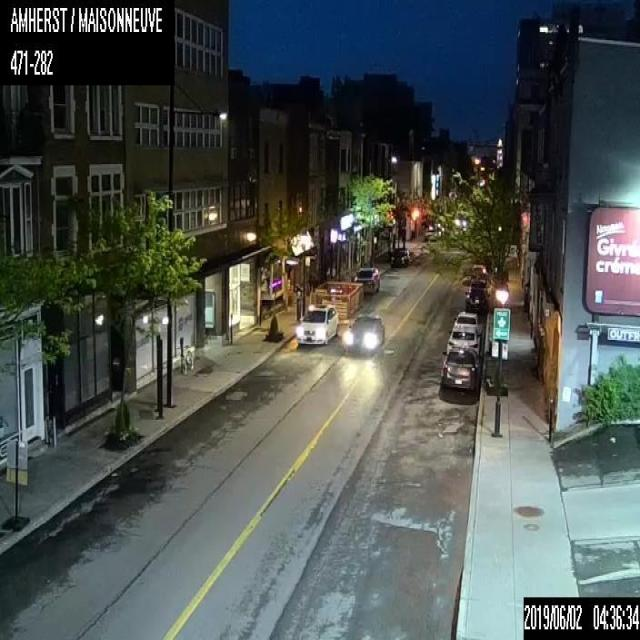vehicle: (441, 345, 481, 394), (296, 300, 339, 345), (344, 313, 384, 355), (447, 326, 480, 355), (351, 265, 379, 296), (464, 278, 489, 312), (452, 311, 482, 334), (390, 244, 411, 268)
